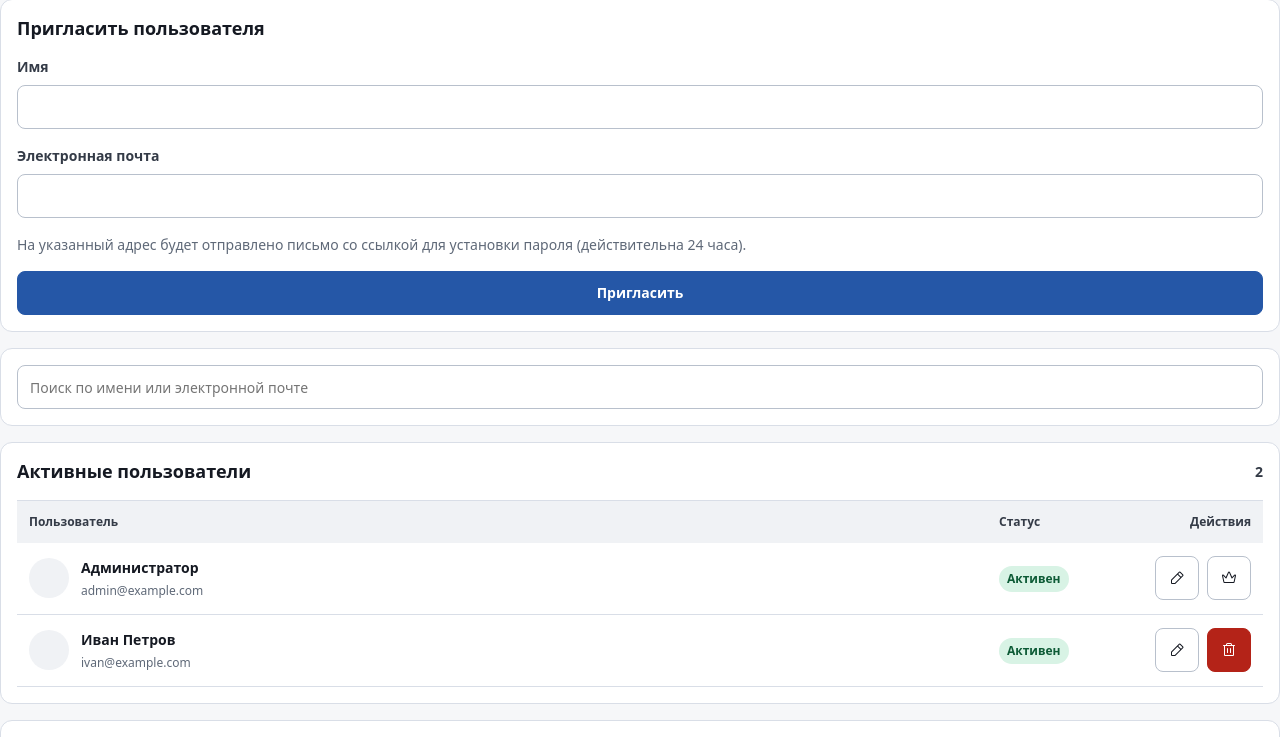
Test case: AdminUsersPage — защита API-контракта › ищет активных и удалённых пользователей по имени и email
Check: the text "ivan@example.com" is shown, box [81,654,191,672]
Type "archive@" into the search field named "Поиск пользователей" at (640, 387), box [17,365,1263,409]
(page scrolled)
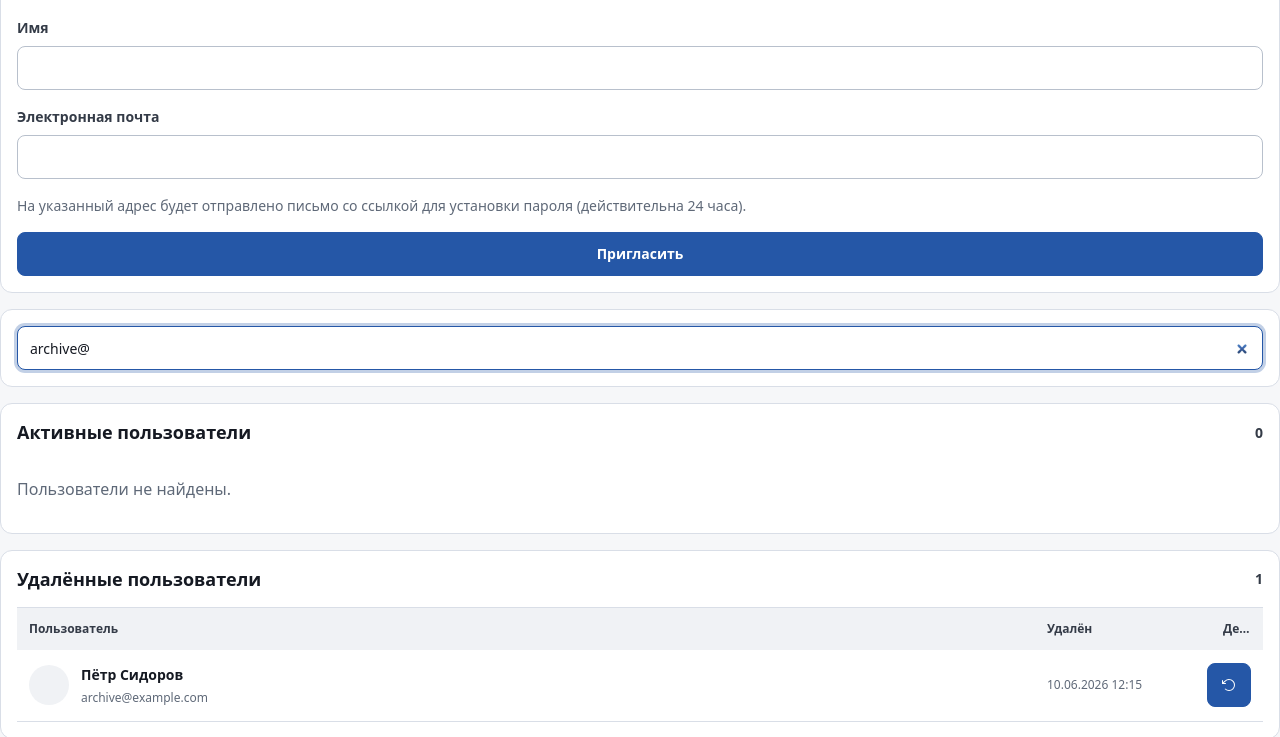
Check: the text "archive@example.com" is shown, box [81,689,208,707]
Check: the text "ivan@example.com" is gone
Check: the text "admin@example.com" is gone
